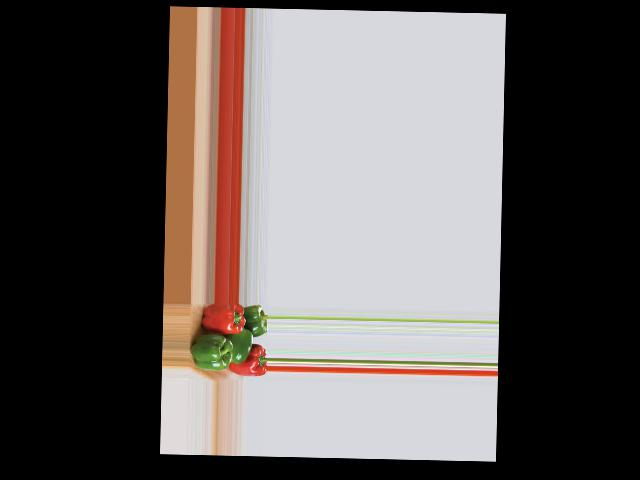bell_pepper: (197, 303, 244, 336)
